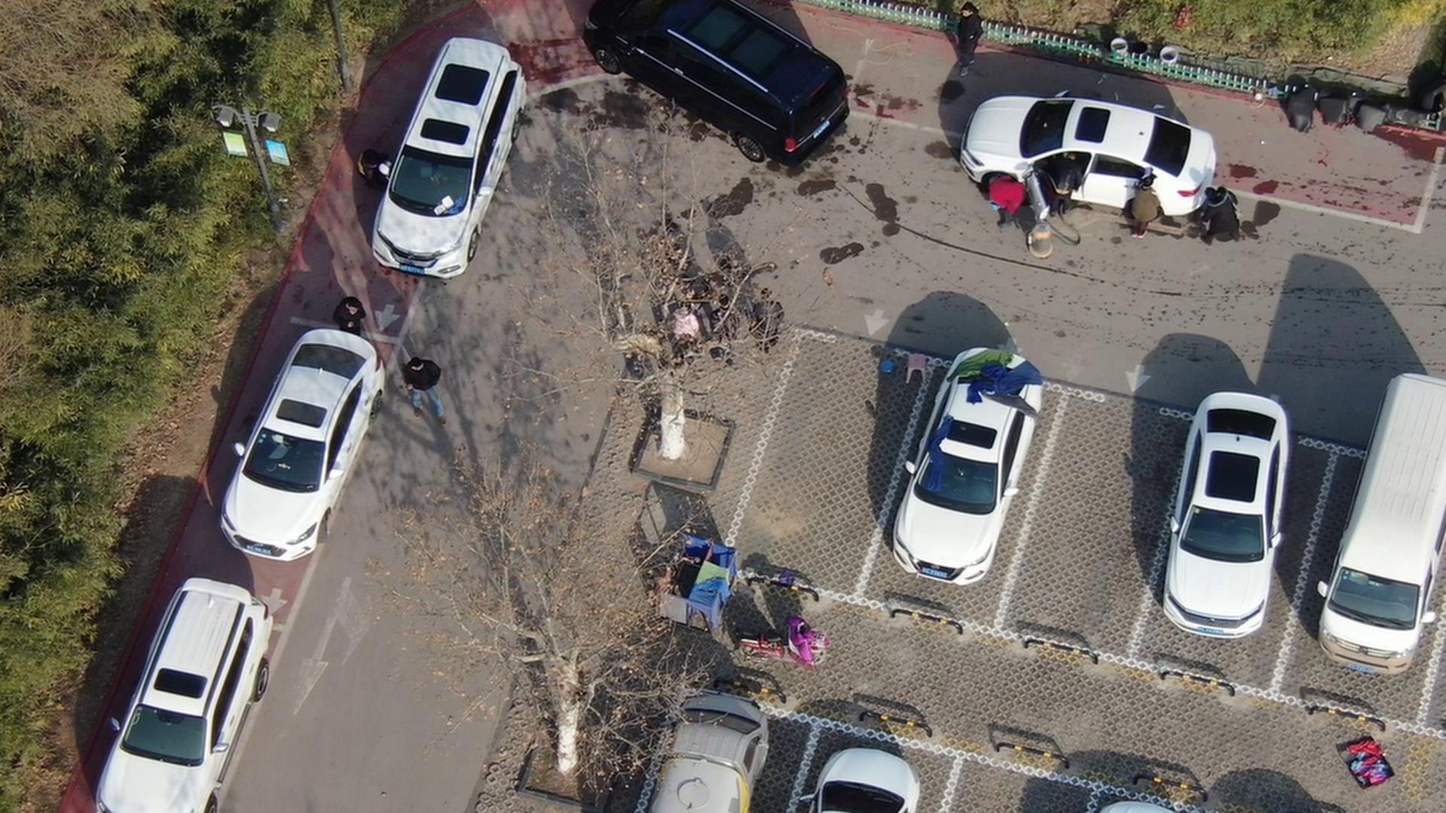human: (748, 285, 793, 358), (1203, 179, 1250, 245), (979, 174, 1037, 224), (710, 288, 746, 365), (958, 1, 993, 75), (407, 358, 449, 418), (1129, 168, 1166, 235), (1053, 148, 1091, 213), (355, 147, 401, 193), (332, 297, 371, 339)
